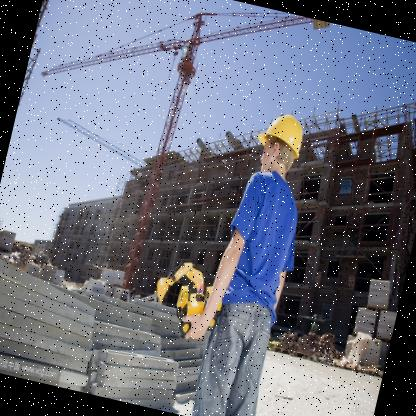capacete: (247, 108, 309, 183)
sem_colete_refletivo: (210, 160, 316, 316)
